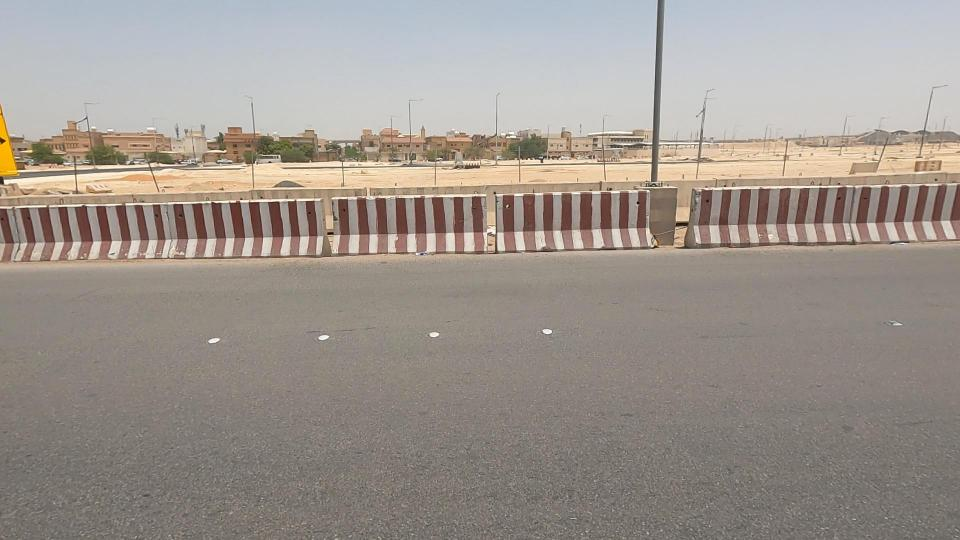CONSTRUCTION_ROAD: (523, 133, 960, 325), (257, 164, 639, 276), (12, 153, 294, 295)
